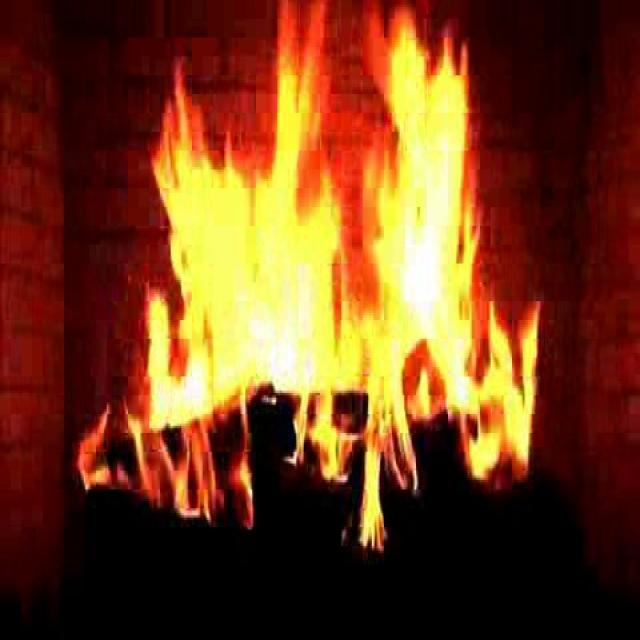fire: (140, 69, 526, 499)
